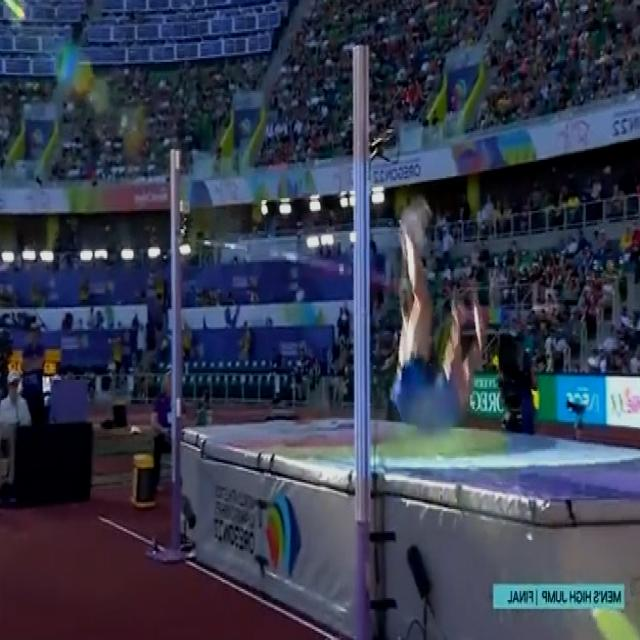land: (387, 202, 486, 424)
